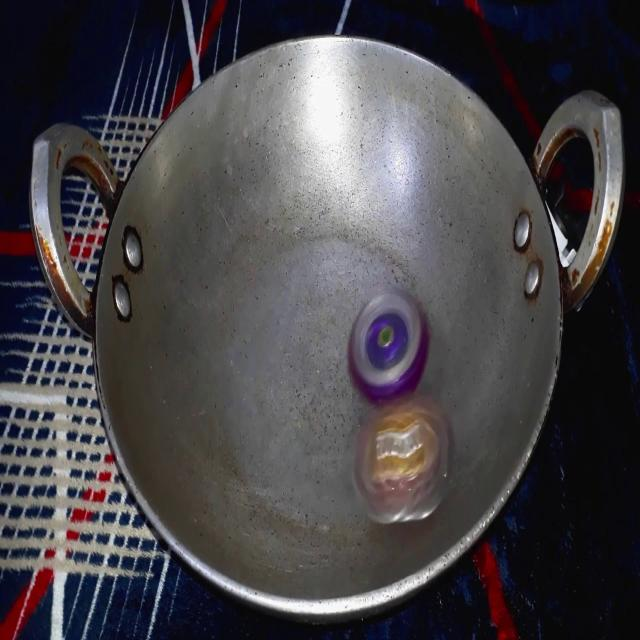beyblade: (345, 390, 461, 541), (341, 282, 446, 411)
